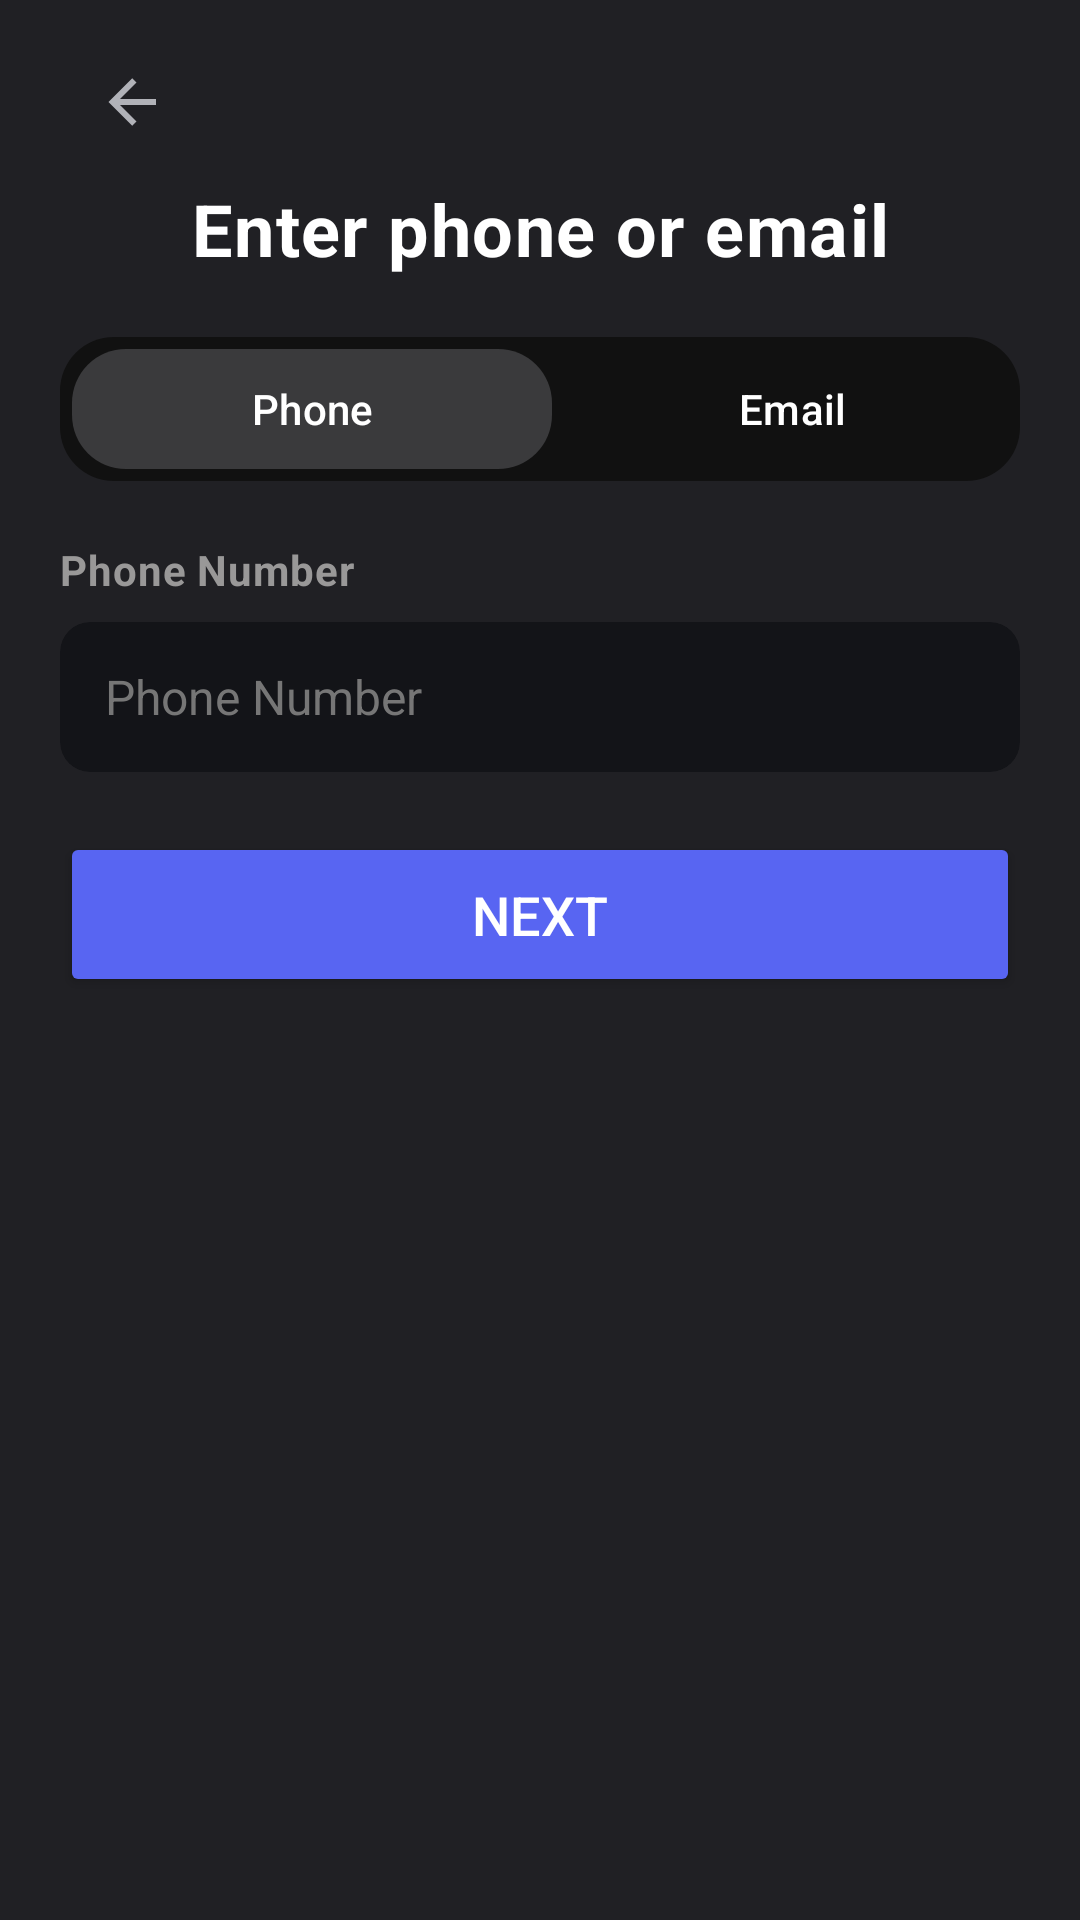

Screen size 1080×1920. Icon name, then its box in pixels as (x1, y1, x2, y2):
Back: (109, 78, 156, 126)
